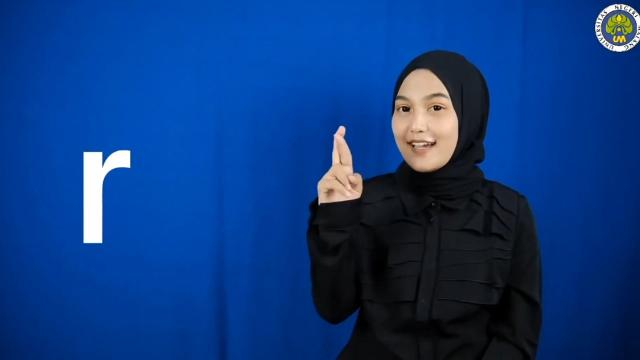R: (316, 118, 364, 202)
